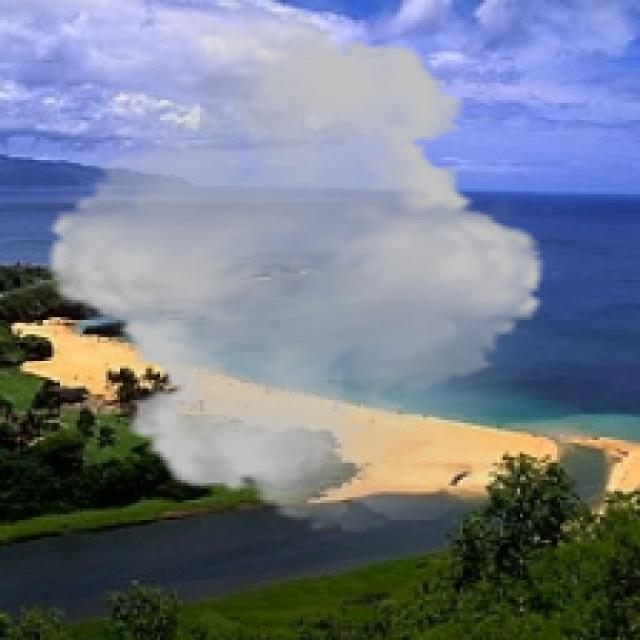smoke: (25, 0, 566, 532)
